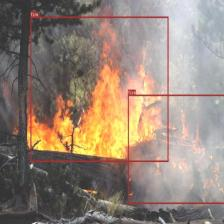fire: (30, 16, 168, 162), (128, 94, 224, 204)
